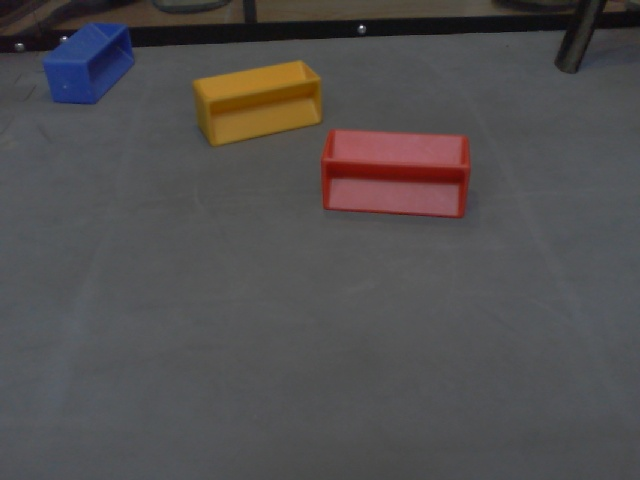BlueSample: (40, 21, 136, 106)
RedSample: (320, 127, 473, 223)
YellowSample: (190, 59, 324, 151)
